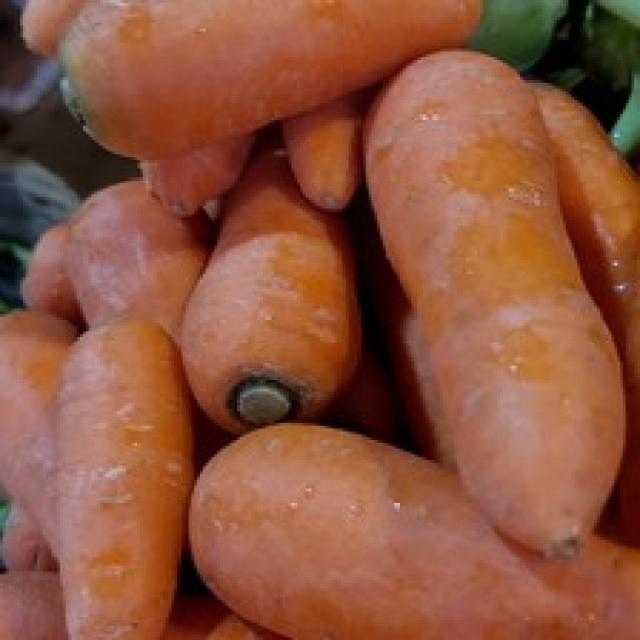Fresh_Carrot: (371, 52, 630, 556), (58, 0, 481, 151), (48, 330, 192, 640)
